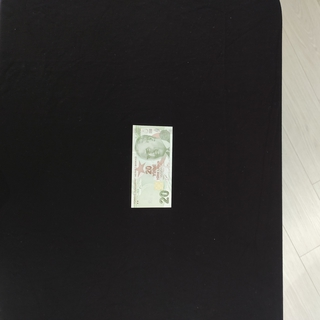20TLFront: (131, 124, 172, 208)
